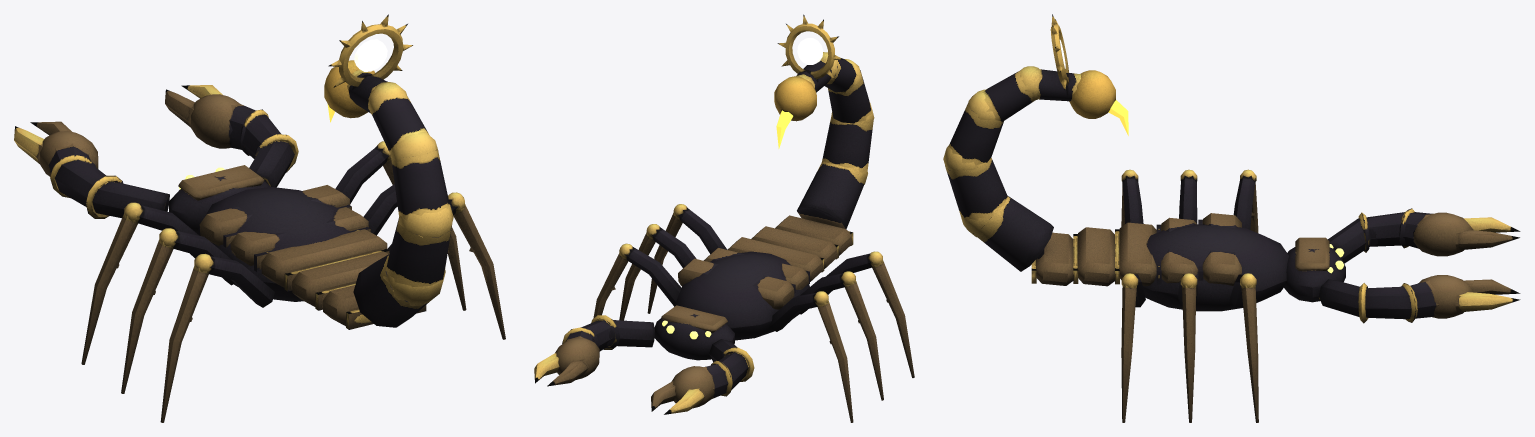
Rendered from alpha_glass_scorpion.fbx.
The picture shows the model from 3 angles, left to right: view 1: azimuth 30°, elevation 25°; view 2: azimuth 150°, elevation 25°; view 3: azimuth 270°, elevation 25°; orthographic projection. The views are drawn at different scales.
Parts seen in each view (by area): view 1: Body, JawL, JawR, Head, Knee-1_2, Knee-1_3, Knee-1_1, Trophy_SunCrest, Knee1_3, Leg-1_3, Leg1_1, Leg1_2 (+4 smaller); view 2: Body, JawR, JawL, Head, Knee-1_2, Knee-1_1, Knee-1_3, Trophy_SunCrest, Leg1_1, Knee1_1, Leg1_3, Knee1_2 (+6 smaller); view 3: Body, JawR, JawL, Head, Knee1_2, Knee1_3, Knee1_1, Leg-1_1, Leg-1_3, Leg-1_2, Trophy_SunCrest.
Part boxes in pixels (x1=…): Body: x1=197, y1=60, x2=453, y2=329; JawL: x1=14, y1=121, x2=169, y2=218; JawR: x1=165, y1=85, x2=298, y2=187; Head: x1=169, y1=165, x2=270, y2=232; Knee-1_2: x1=121, y1=228, x2=178, y2=393; Knee-1_3: x1=160, y1=253, x2=213, y2=422; Knee-1_1: x1=81, y1=202, x2=143, y2=364; Trophy_SunCrest: x1=328, y1=14, x2=412, y2=87; Knee1_3: x1=448, y1=192, x2=505, y2=339; Leg-1_3: x1=208, y1=256, x2=274, y2=307; Leg1_1: x1=335, y1=146, x2=388, y2=203; Leg1_2: x1=363, y1=184, x2=397, y2=235; Body: x1=675, y1=52, x2=874, y2=340; JawR: x1=534, y1=315, x2=654, y2=386; JawL: x1=651, y1=339, x2=754, y2=414; Head: x1=654, y1=305, x2=734, y2=360; Knee-1_2: x1=841, y1=271, x2=883, y2=400; Knee-1_1: x1=814, y1=291, x2=853, y2=422; Knee-1_3: x1=868, y1=251, x2=914, y2=377; Trophy_SunCrest: x1=777, y1=14, x2=842, y2=79; Leg1_1: x1=625, y1=247, x2=681, y2=306; Knee1_1: x1=593, y1=243, x2=632, y2=318; Leg1_3: x1=678, y1=207, x2=727, y2=253; Knee1_2: x1=619, y1=224, x2=659, y2=320; Body: x1=943, y1=66, x2=1289, y2=311; JawR: x1=1318, y1=275, x2=1520, y2=323; JawL: x1=1328, y1=208, x2=1520, y2=263; Head: x1=1283, y1=237, x2=1345, y2=302; Knee1_2: x1=1180, y1=273, x2=1197, y2=422; Knee1_3: x1=1121, y1=273, x2=1138, y2=422; Knee1_1: x1=1240, y1=273, x2=1258, y2=422; Leg-1_1: x1=1233, y1=175, x2=1255, y2=229; Leg-1_3: x1=1122, y1=176, x2=1143, y2=223; Leg-1_2: x1=1179, y1=176, x2=1197, y2=223; Trophy_SunCrest: x1=1050, y1=14, x2=1069, y2=89.
Size of the model in its own units: 686 by 750 by 1179.
Materials: 4 (1 with a texture image).
